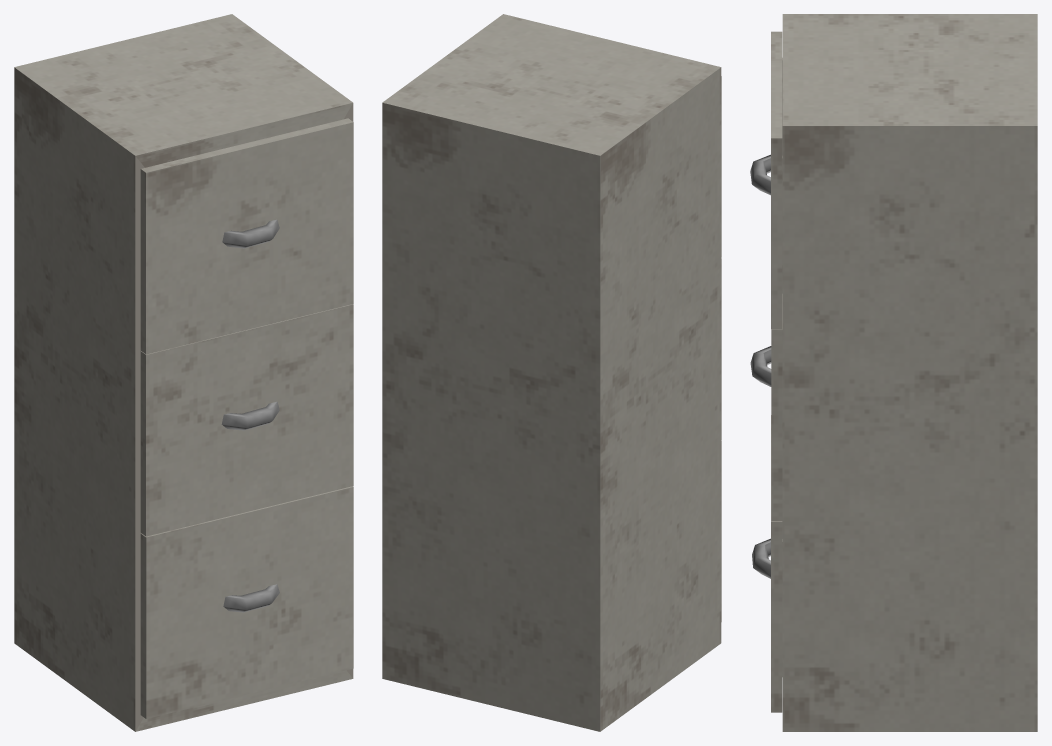
The model's file is MetalCabinet.fbx.
The picture shows the model from 3 angles, left to right: view 1: azimuth 30°, elevation 25°; view 2: azimuth 150°, elevation 25°; view 3: azimuth 270°, elevation 25°; orthographic projection. The views are drawn at different scales.
Parts seen in each view (by area): view 1: Cabinet, polySurface113, polySurface111, polySurface108; view 2: Cabinet; view 3: Cabinet, polySurface113, polySurface111, polySurface108.
Boxes of the visible parts, x1=… form: Cabinet: x1=14, y1=14, x2=353, y2=731; polySurface113: x1=140, y1=118, x2=353, y2=354; polySurface111: x1=140, y1=486, x2=353, y2=718; polySurface108: x1=140, y1=304, x2=353, y2=536; Cabinet: x1=382, y1=14, x2=721, y2=731; Cabinet: x1=782, y1=14, x2=1037, y2=731; polySurface113: x1=750, y1=31, x2=782, y2=329; polySurface111: x1=752, y1=415, x2=782, y2=712; polySurface108: x1=750, y1=294, x2=782, y2=520.
Size of the model in its own units: 112 by 282 by 121.
Materials: 1 (1 with a texture image).
